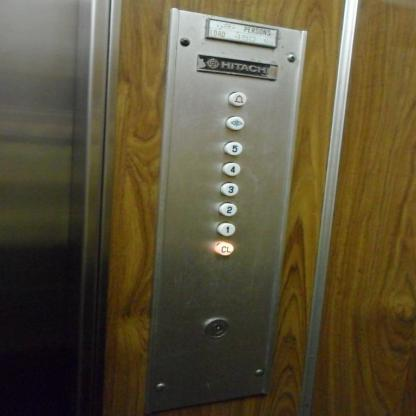1: (215, 219, 236, 238)
2: (217, 200, 237, 218)
3: (218, 180, 239, 198)
4: (220, 160, 241, 178)
5: (222, 139, 243, 157)
CL: (214, 239, 234, 257)
alarm: (227, 90, 247, 107)
keyhole: (202, 314, 232, 340)
open: (224, 114, 245, 132)
